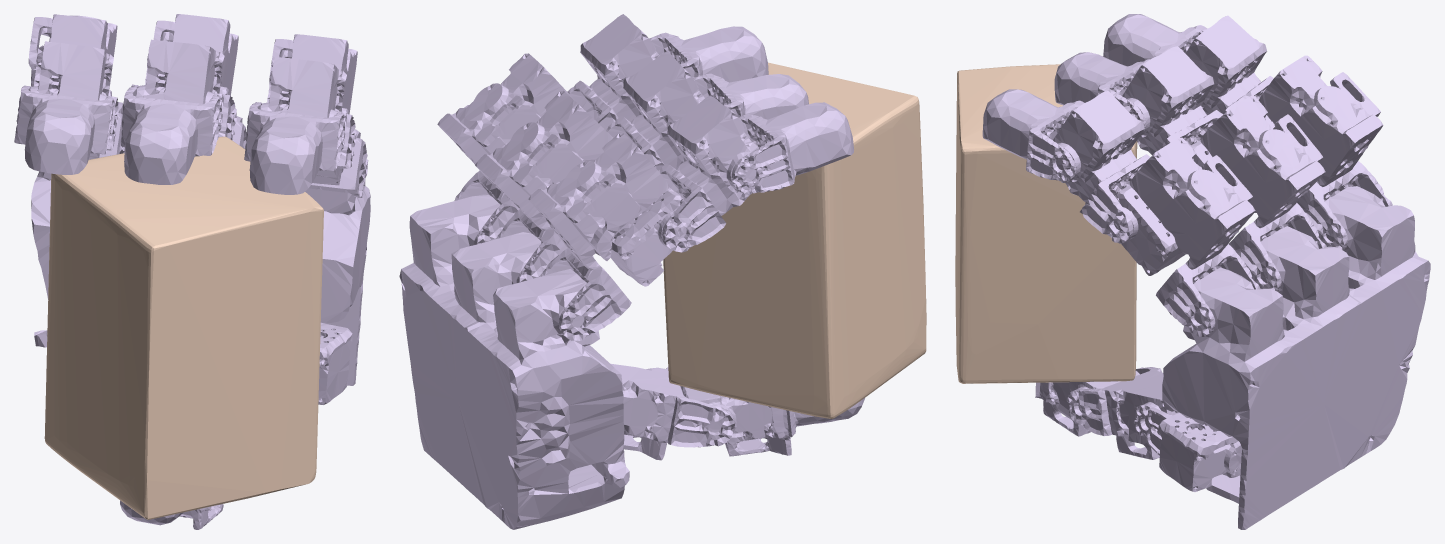
File: 7998d308733e7f-closed.glb
3 renders of one model, left to right at view 1: azimuth 30°, elevation 25°; view 2: azimuth 150°, elevation 25°; view 3: azimuth 270°, elevation 25°, orthographic. The views are drawn at different scales.
Visible parts, largest first — view 1: world, LEAP_hand; view 2: LEAP_hand, world; view 3: LEAP_hand, world.
Boxes of the visible parts, x1=… form: world: x1=44, y1=136, x2=323, y2=519; LEAP_hand: x1=14, y1=14, x2=370, y2=529; LEAP_hand: x1=399, y1=14, x2=864, y2=529; world: x1=663, y1=62, x2=926, y2=418; LEAP_hand: x1=982, y1=14, x2=1430, y2=529; world: x1=955, y1=64, x2=1137, y2=383.
Bounding box in the file's own units: 0.1772 × 0.1796 × 0.201.
